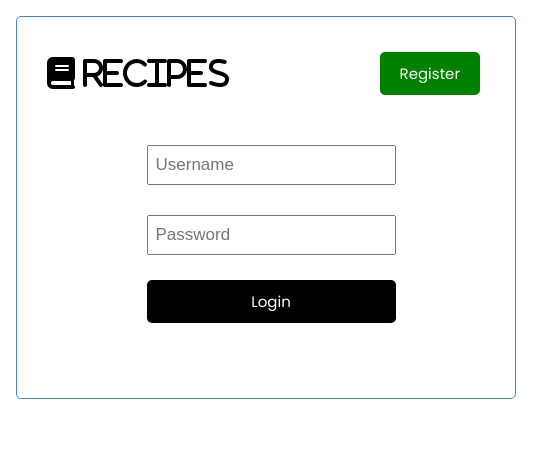
Test: trying to login with empty fields
Expected: the field with placeholder "Username" is shown, [146, 145, 396, 185]
Expected: the password field with placeholder "Password" is shown, [146, 215, 396, 255]
Click the button "Login": (271, 302) [146, 280, 396, 323]
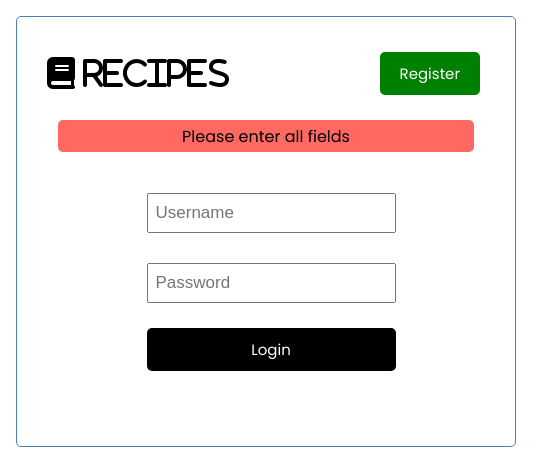
Expected: the text with test id "message" reads "Please enter all fields", [182, 125, 350, 148]
